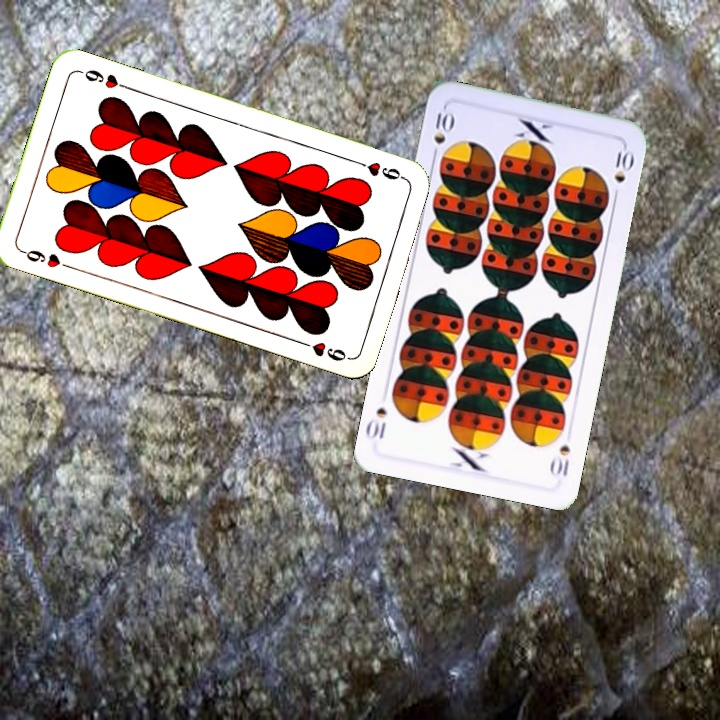H9: (17, 245, 74, 272), (351, 156, 408, 183)
S10: (428, 104, 456, 163), (546, 441, 573, 479)
